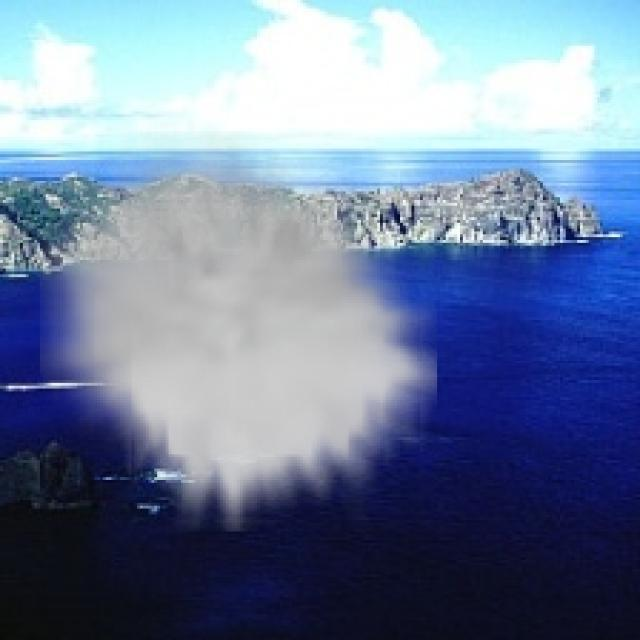Smoke: (40, 132, 437, 532)
